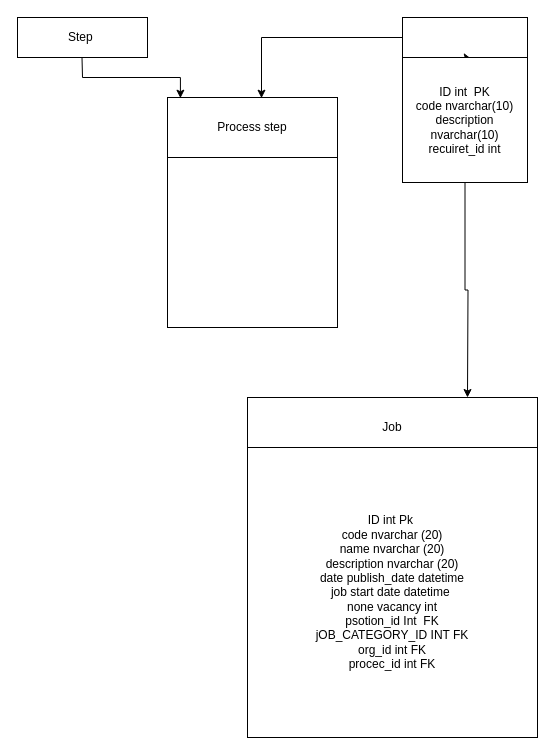
Some shapes in this 555 by 755 pixel diagram are drawn without their labels. Here are the shapes that lost their labels. From the top down, the box of each, then its label:
(402, 16, 528, 58): Process
(166, 156, 338, 328): ID init PK step_id int PK process_id int PK status Varchar N Priotority Int
